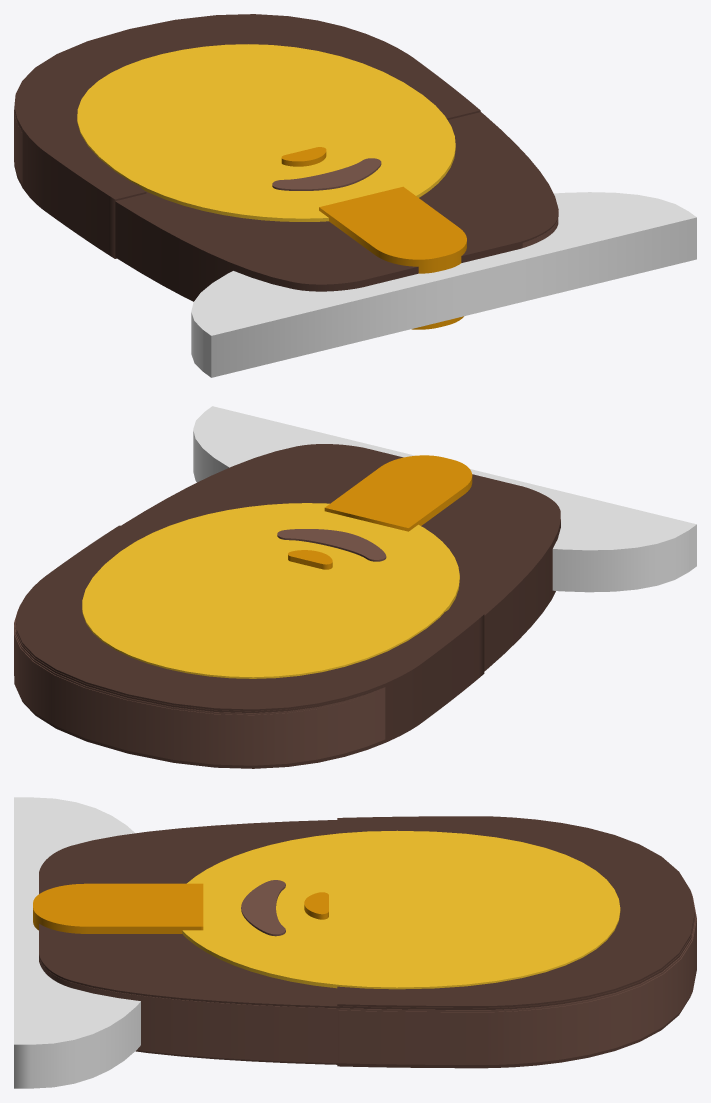
Rendered from emoji_u1f469_200d_2695.glb.
3 views of the same model, one above another, from view 1: azimuth 30°, elevation 25°; view 2: azimuth 150°, elevation 25°; view 3: azimuth 270°, elevation 25° (orthographic). The views are drawn at different scales.
Visible parts, largest first — view 1: emoji_u1f469_200d_2695; view 2: emoji_u1f469_200d_2695; view 3: emoji_u1f469_200d_2695.
Boxes of the visible parts, x1,y1,x2,y2 form: emoji_u1f469_200d_2695: (14,14,696,377); emoji_u1f469_200d_2695: (14,406,696,768); emoji_u1f469_200d_2695: (14,797,696,1088).
Size of the model in its own units: 0.029 by 0.0042 by 0.0339.
